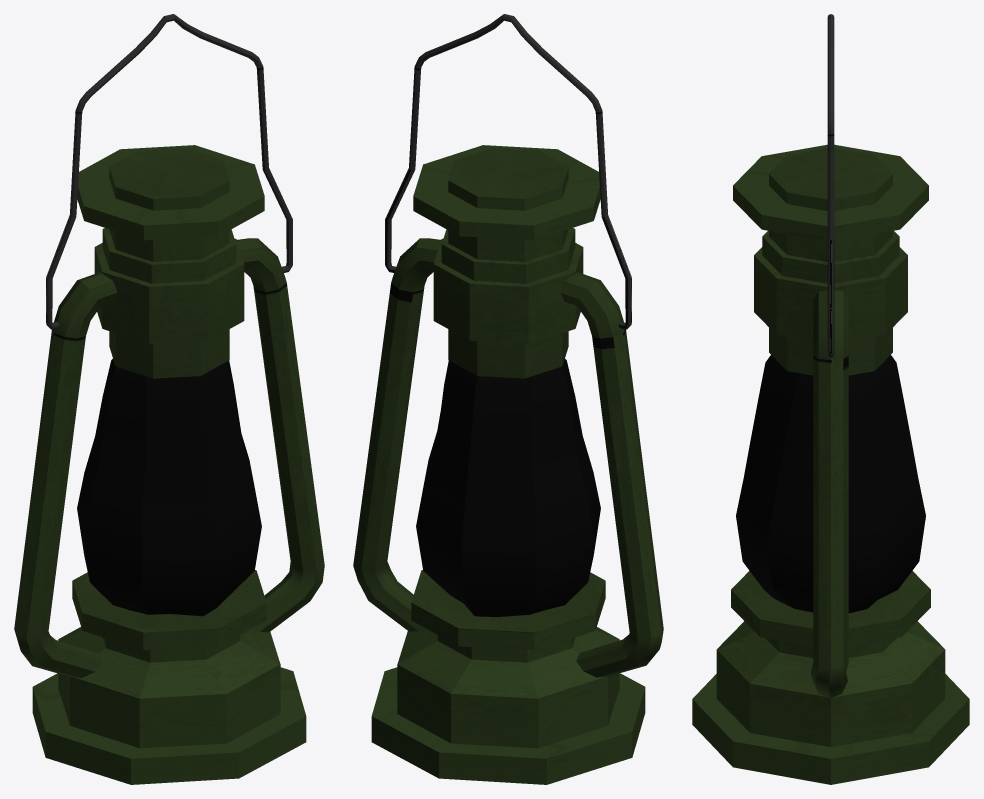
Rendered from lamp.obj.
3 renders of one model, left to right at view 1: azimuth 30°, elevation 25°; view 2: azimuth 150°, elevation 25°; view 3: azimuth 270°, elevation 25°, orthographic.
Parts seen in each view (by area): view 1: group1 lantern bottom, glass1 group1 lantern, group1 lantern handles, group1 lantern top; view 2: group1 lantern bottom, glass1 group1 lantern, group1 lantern handles, group1 lantern top; view 3: group1 lantern bottom, glass1 group1 lantern, group1 lantern top, group1 lantern handles.
Part boxes in pixels (x1=…): group1 lantern bottom: x1=32, y1=570, x2=306, y2=784; glass1 group1 lantern: x1=77, y1=359, x2=261, y2=616; group1 lantern handles: x1=14, y1=14, x2=324, y2=677; group1 lantern top: x1=77, y1=145, x2=264, y2=378; group1 lantern bottom: x1=371, y1=570, x2=645, y2=784; glass1 group1 lantern: x1=416, y1=359, x2=600, y2=616; group1 lantern handles: x1=353, y1=14, x2=663, y2=677; group1 lantern top: x1=413, y1=145, x2=600, y2=378; group1 lantern bottom: x1=692, y1=571, x2=969, y2=784; glass1 group1 lantern: x1=736, y1=355, x2=925, y2=613; group1 lantern top: x1=733, y1=144, x2=928, y2=375; group1 lantern handles: x1=811, y1=14, x2=848, y2=698.
Bounding box in the file's own units: 1.71 × 3.79 × 1.34.
Materials: 2 (1 with a texture image).
